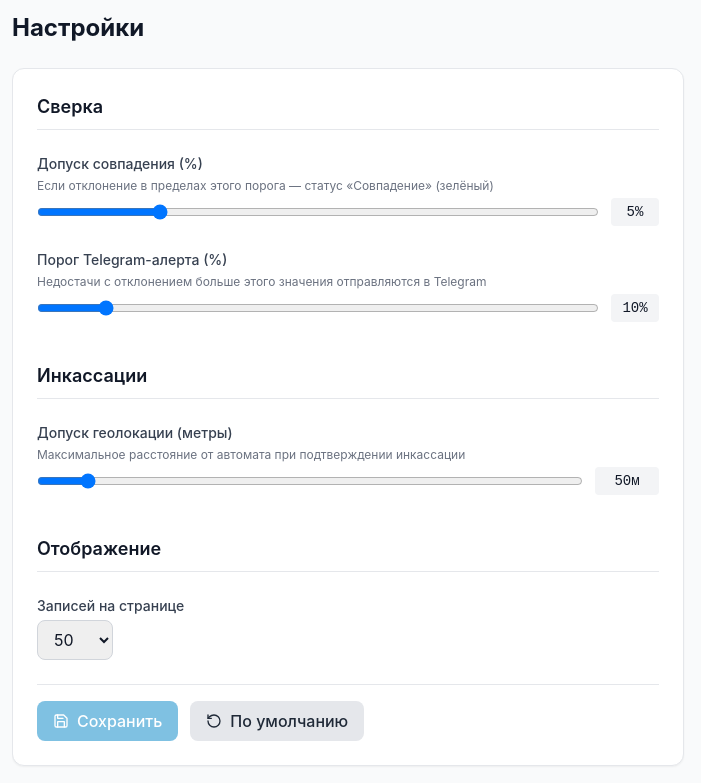
it: SettingsPage › should enable save button when settings change
Expected: the button "Сохранить" is disabled, [37,701,178,741]
Note: Change a range slider
Set the slider below "Допуск совпадения (%)" to "10". click: (304, 212)
box: [37,204,599,220]
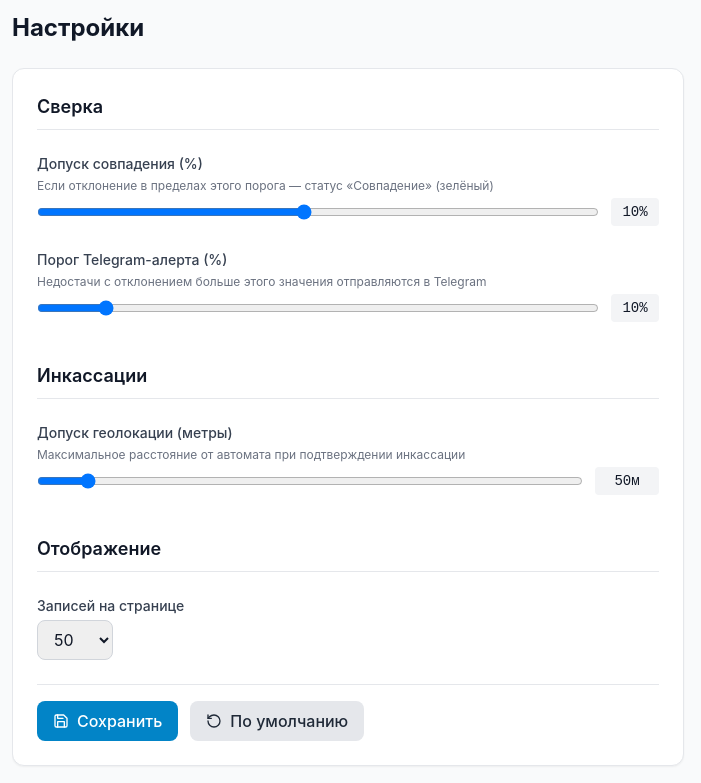
Expected: the button "Сохранить" is enabled, [37,701,178,741]
